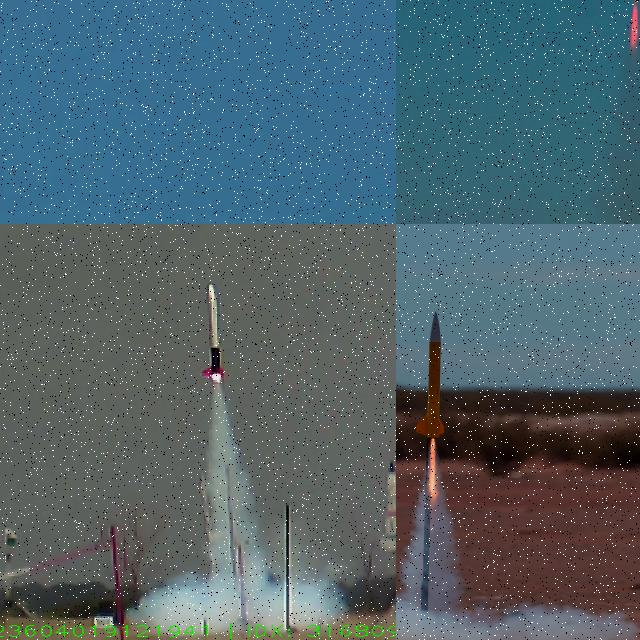Rocket: (415, 312, 445, 440), (200, 283, 226, 381), (378, 460, 396, 554)
